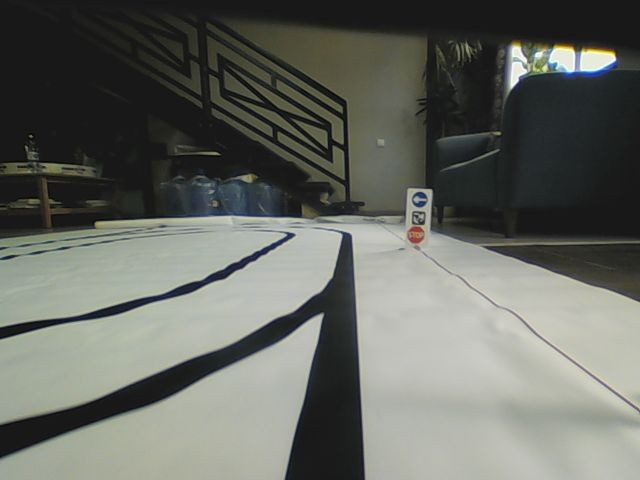Stop: (407, 225, 424, 243)
